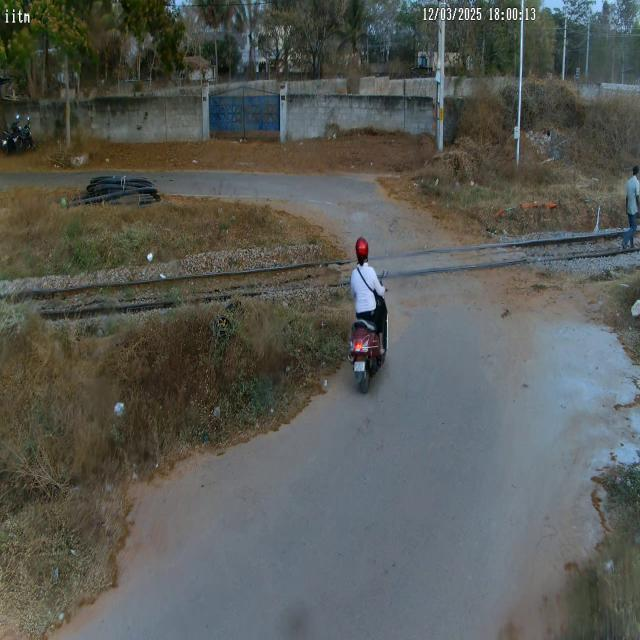objects: (342, 229, 396, 396), (620, 167, 640, 256)
